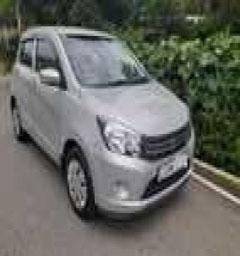car: (8, 8, 214, 231)
